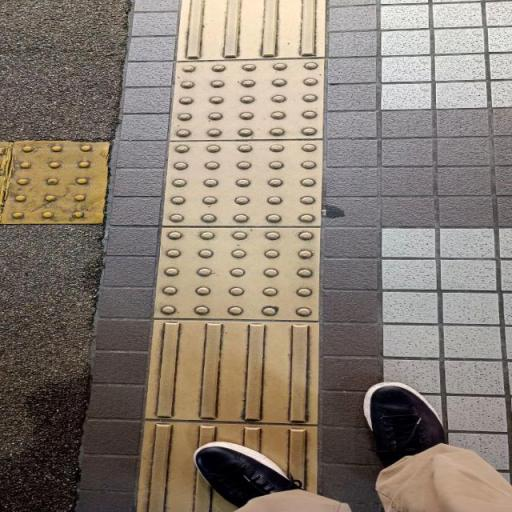dot: (150, 227, 321, 321), (163, 140, 323, 225), (169, 58, 326, 141)
line: (143, 319, 320, 424)
